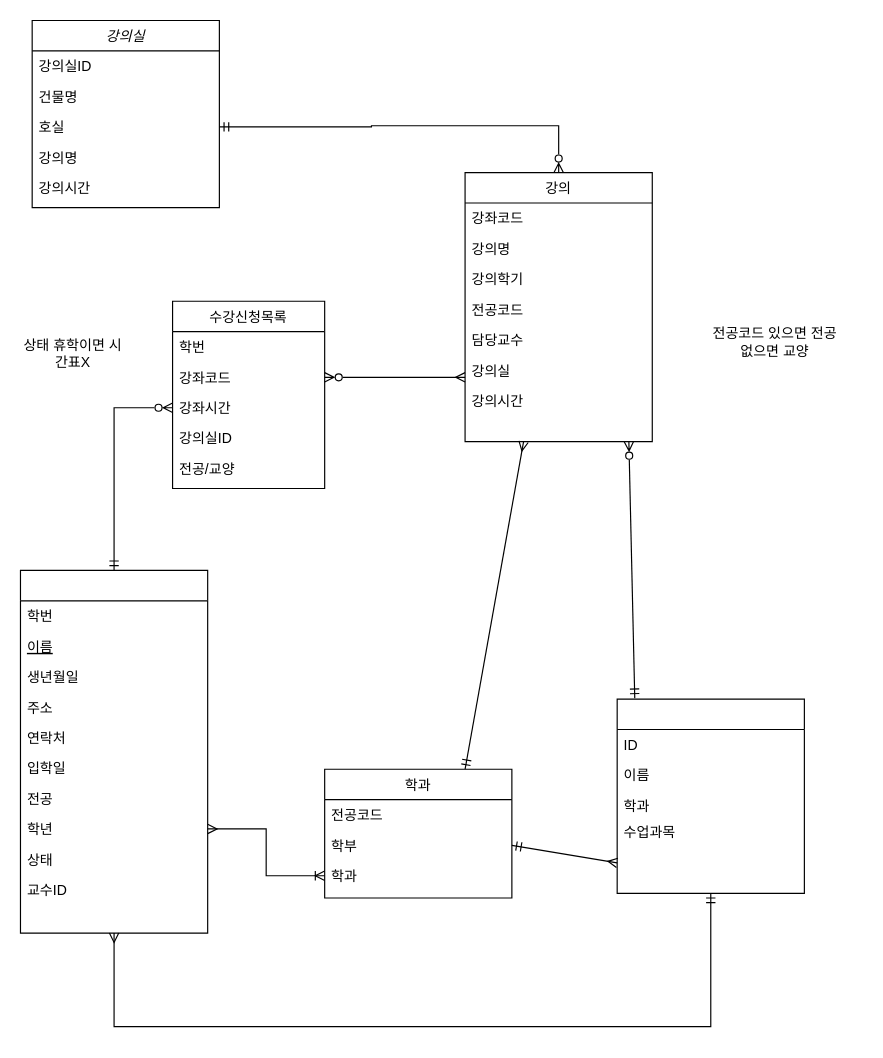
This 883x1058 diagram has some shape labels left out. Here are the shapes that lost their labels. From the top down, the box of each, then its label:
(19, 569, 208, 933): 학생
(616, 698, 804, 893): 교수
